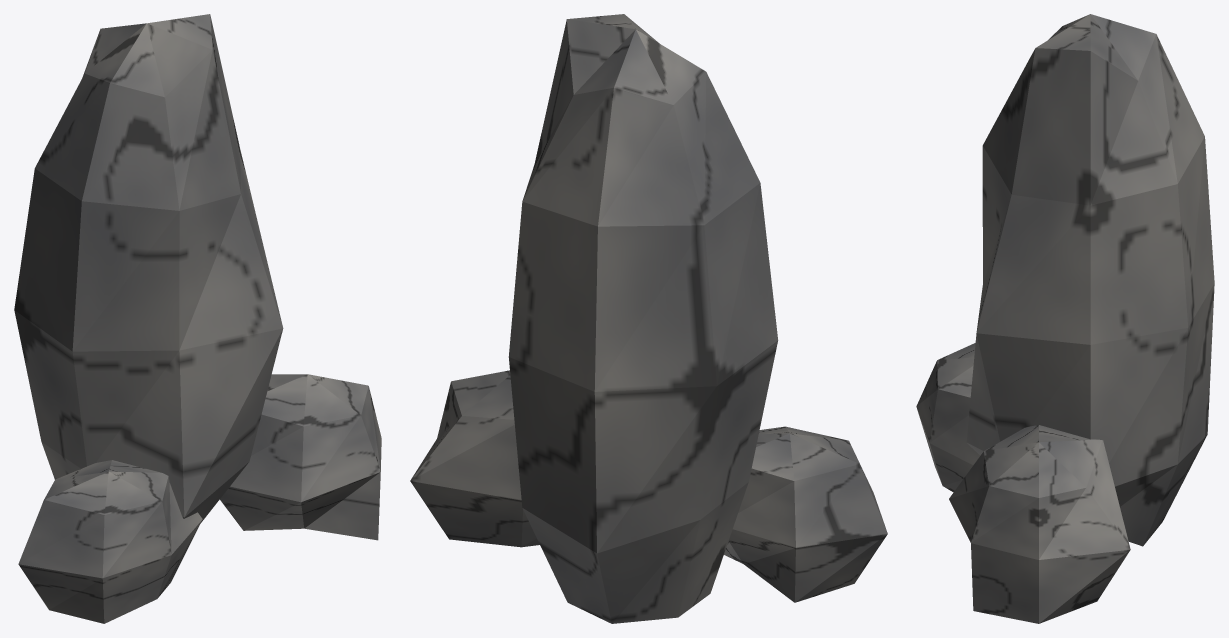
Rendered from rock3.obj.
3 views of the same model, side by side, from view 1: azimuth 30°, elevation 25°; view 2: azimuth 150°, elevation 25°; view 3: azimuth 270°, elevation 25° (orthographic). The views are drawn at different scales.
Visible parts, largest first — view 1: Rock3; view 2: Rock3; view 3: Rock3.
Boxes of the visible parts, bbox=[...] form: Rock3: bbox=[14, 14, 381, 623]; Rock3: bbox=[410, 14, 887, 623]; Rock3: bbox=[916, 14, 1214, 623].
Bounding box in the file's own units: 1.73 × 2.2 × 1.16.
Materials: 1 (1 with a texture image).
